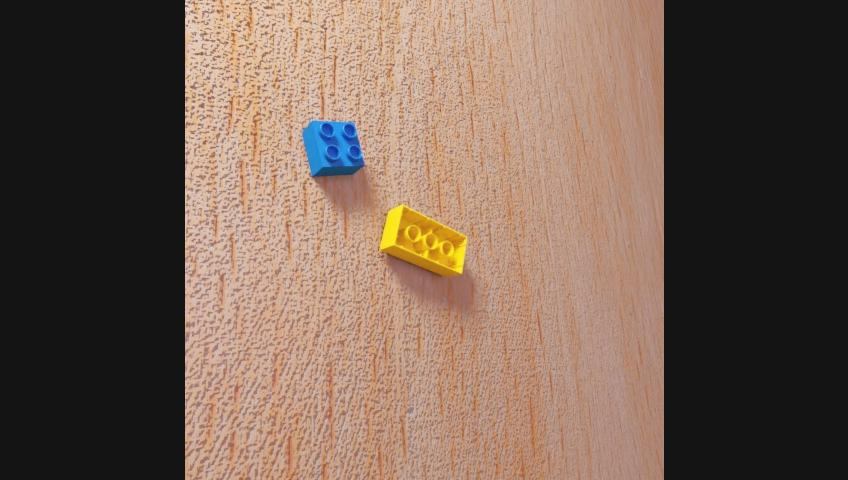2x2_blue: (301, 120, 365, 175)
4x2_yellow: (379, 204, 467, 276)
